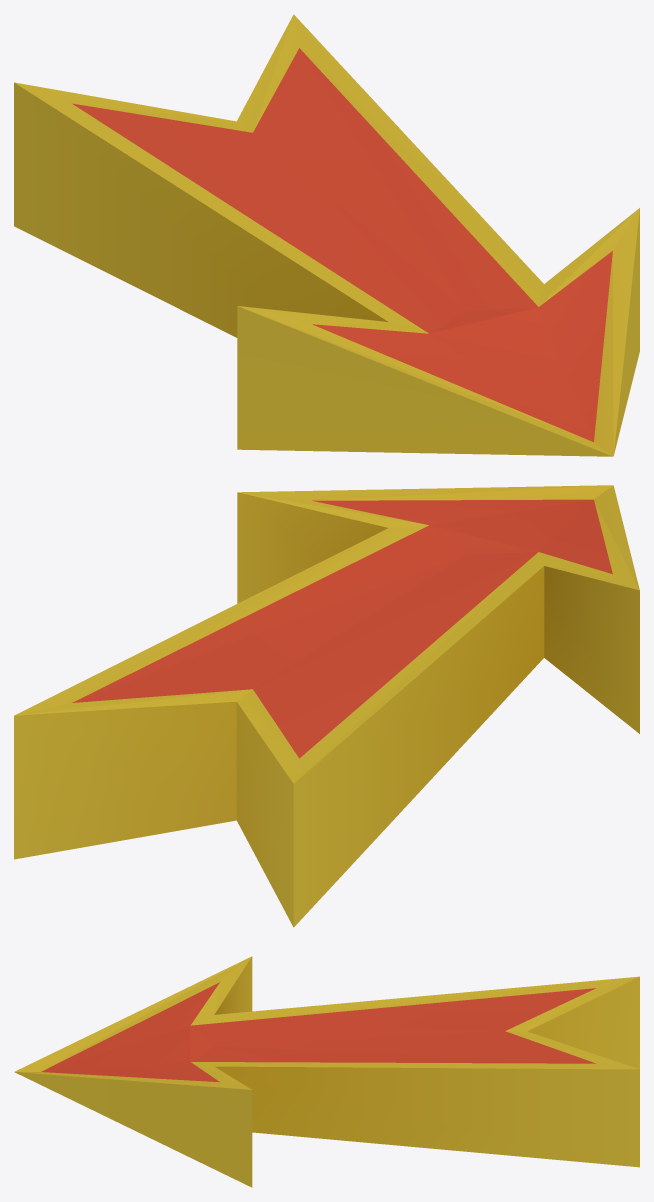
The model's file is Ball_finder_v2.glb.
The picture shows the model from 3 angles, top to bottom: view 1: azimuth 30°, elevation 25°; view 2: azimuth 150°, elevation 25°; view 3: azimuth 270°, elevation 25°; orthographic projection. The views are drawn at different scales.
Visible parts, largest first — view 1: Cube; view 2: Cube; view 3: Cube.
Boxes of the visible parts, left/top/right/bottom form: Cube: left=14, top=14, right=639, bottom=456; Cube: left=14, top=485, right=639, bottom=927; Cube: left=14, top=956, right=639, bottom=1187.
Size of the model in its own units: 0.2484 by 0.0848 by 0.4912.
